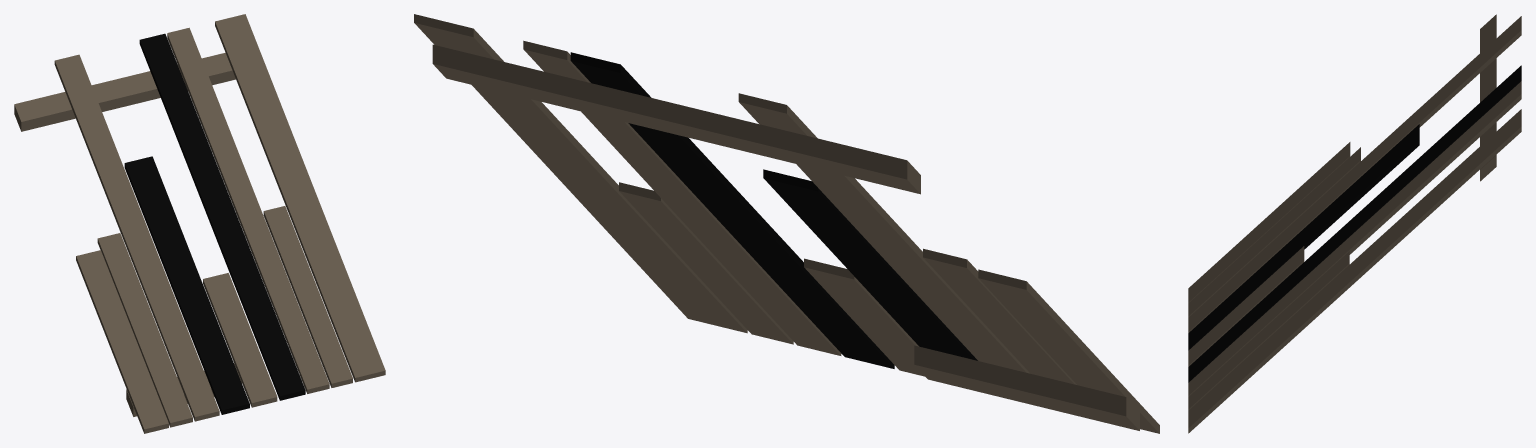
The model's file is dach_bretter_2x2_kaputt.glb.
3 renders of one model, left to right at view 1: azimuth 30°, elevation 25°; view 2: azimuth 150°, elevation 25°; view 3: azimuth 270°, elevation 25°, orthographic. The views are drawn at different scales.
Visible parts, largest first — view 1: dach_bretter_2x2_kaputt; view 2: dach_bretter_2x2_kaputt; view 3: dach_bretter_2x2_kaputt.
Boxes of the visible parts, x1,y1,x2,y2 form: dach_bretter_2x2_kaputt: (14, 14, 385, 433); dach_bretter_2x2_kaputt: (414, 14, 1159, 433); dach_bretter_2x2_kaputt: (1188, 14, 1521, 433).
Size of the model in its own units: 2 by 2.04 by 2.
